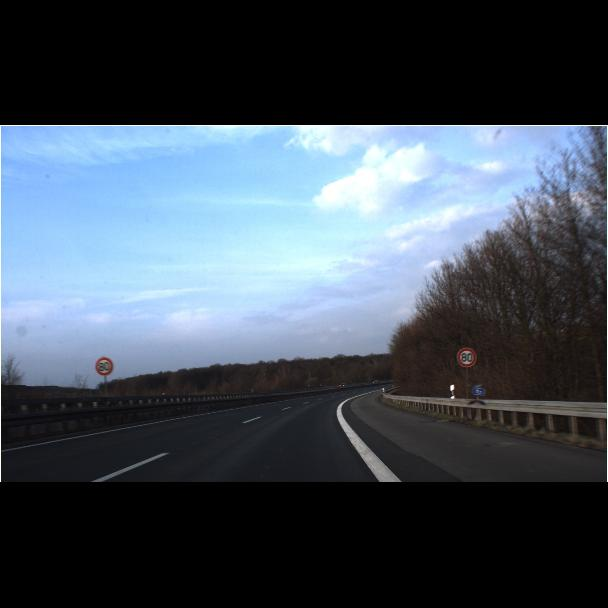NO-speed limit 80: (95, 348, 477, 376)
